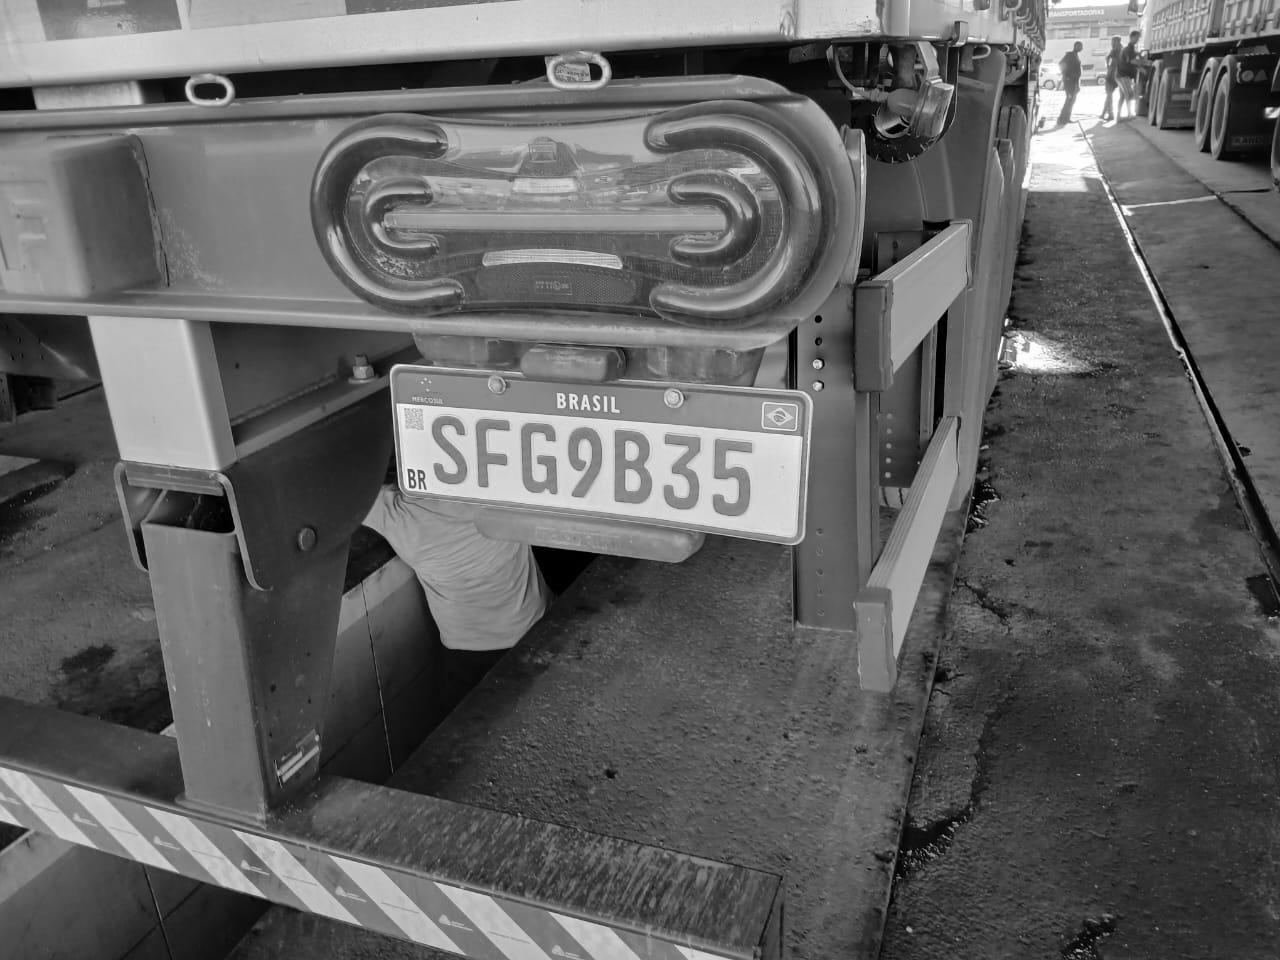placa_mercosul: (392, 366, 810, 544)
